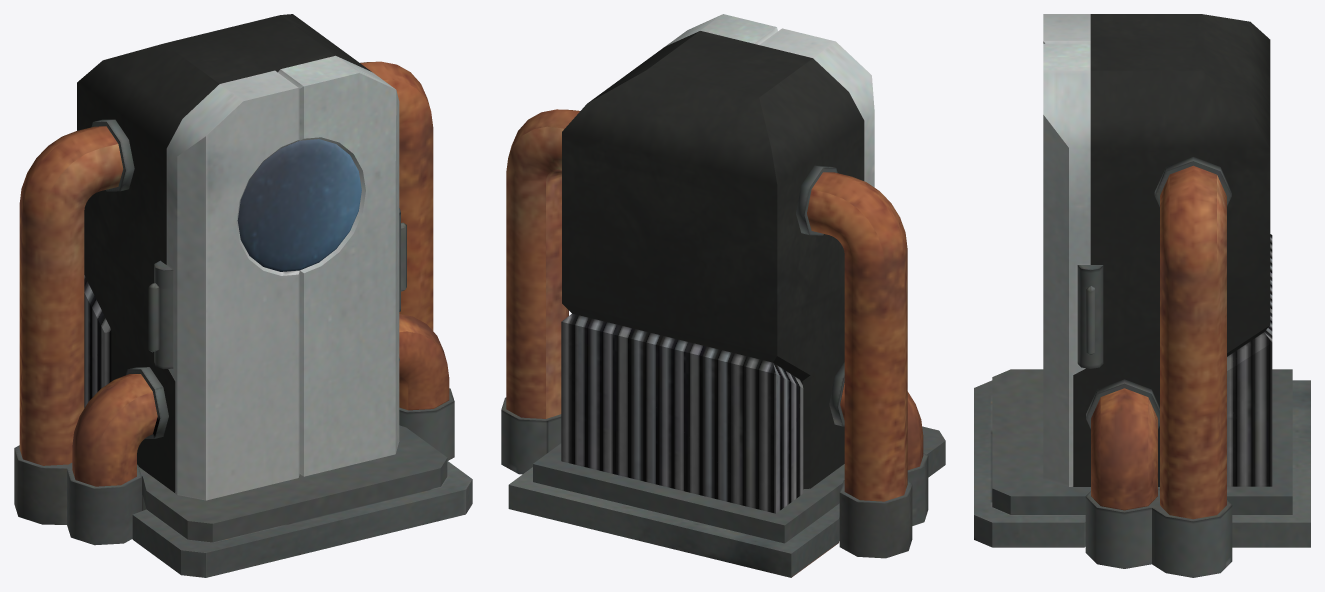
Rendered from CryopodSOLID.fbx.
3 views of the same model, side by side, from view 1: azimuth 30°, elevation 25°; view 2: azimuth 150°, elevation 25°; view 3: azimuth 270°, elevation 25° (orthographic). The views are drawn at different scales.
Visible parts, largest first — view 1: Cryopod_Solid; view 2: Cryopod_Solid; view 3: Cryopod_Solid.
Boxes of the visible parts, x1,y1,x2,y2 form: Cryopod_Solid: [14, 14, 472, 577]; Cryopod_Solid: [501, 14, 945, 577]; Cryopod_Solid: [974, 14, 1310, 577].
Size of the model in its own units: 176 by 176 by 123.
